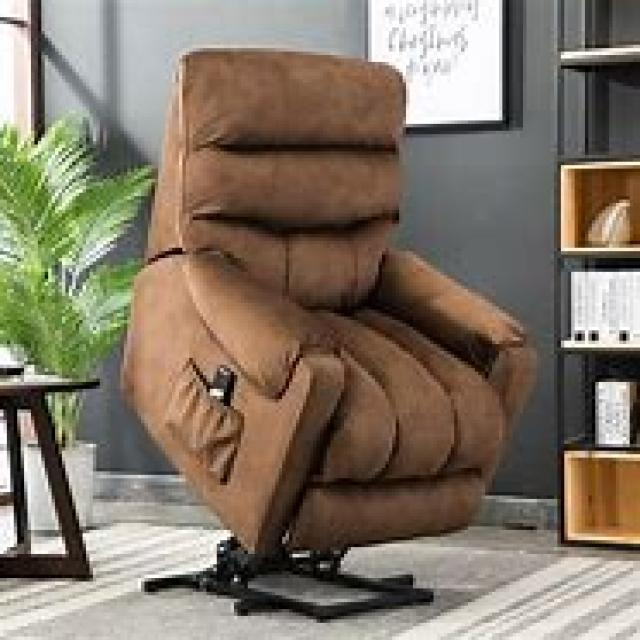chair: (117, 45, 537, 619)
